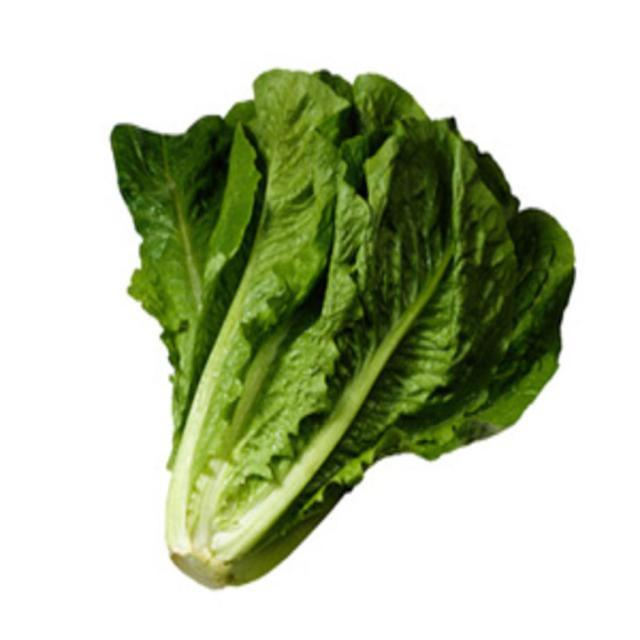Lettuce-Ready-to-Harvest: (106, 73, 577, 592)
